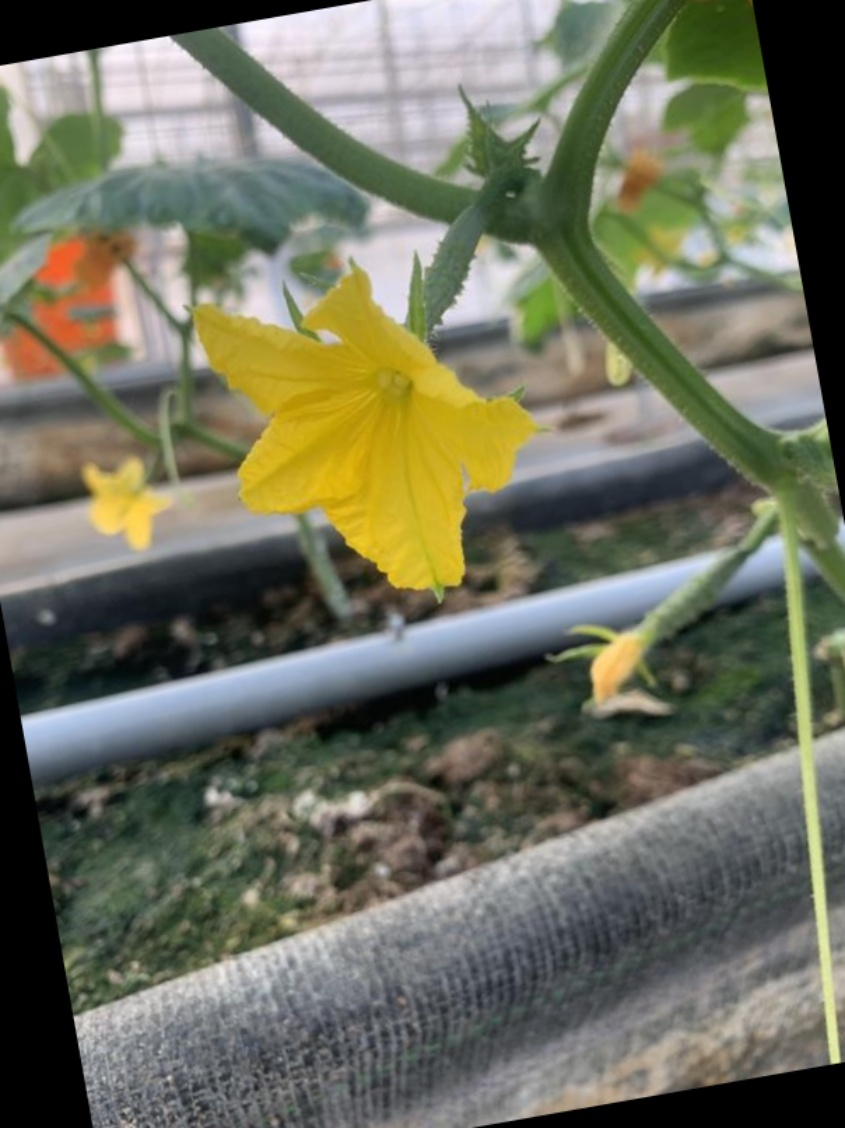flowering: (173, 185, 592, 610)
